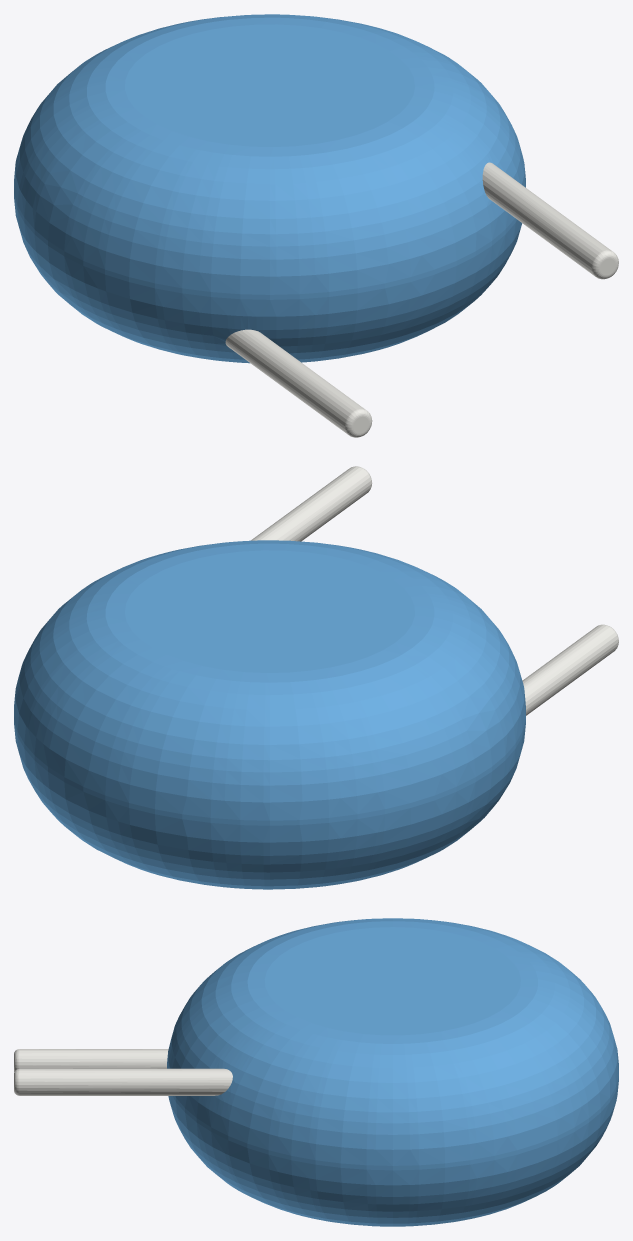
File: RV_Disc_D9mm_W4mm_P5mm.glb
The picture shows the model from 3 angles, top to bottom: view 1: azimuth 30°, elevation 25°; view 2: azimuth 150°, elevation 25°; view 3: azimuth 270°, elevation 25°; orthographic projection. The views are drawn at different scales.
Visible parts, largest first — view 1: Shape_IndexedFaceSet.001, Shape_IndexedFaceSet.003, Shape_IndexedFaceSet.002, Shape_IndexedFaceSet.006, Shape_IndexedFaceSet.004, Shape_IndexedFaceSet; view 2: Shape_IndexedFaceSet.001, Shape_IndexedFaceSet.003, Shape_IndexedFaceSet.002, Shape_IndexedFaceSet.004, Shape_IndexedFaceSet.006, Shape_IndexedFaceSet; view 3: Shape_IndexedFaceSet.001, Shape_IndexedFaceSet.003, Shape_IndexedFaceSet.002, Shape_IndexedFaceSet.004, Shape_IndexedFaceSet.006, Shape_IndexedFaceSet.
Boxes of the visible parts, x1,y1,x2,y2 form: Shape_IndexedFaceSet.001: (14, 14, 525, 294); Shape_IndexedFaceSet.003: (125, 24, 414, 146); Shape_IndexedFaceSet.002: (14, 198, 522, 363); Shape_IndexedFaceSet.006: (225, 329, 365, 434); Shape_IndexedFaceSet.004: (482, 162, 611, 275); Shape_IndexedFaceSet: (14, 193, 517, 299); Shape_IndexedFaceSet.001: (14, 540, 525, 820); Shape_IndexedFaceSet.003: (125, 550, 414, 672); Shape_IndexedFaceSet.002: (14, 724, 525, 889); Shape_IndexedFaceSet.004: (251, 466, 371, 541); Shape_IndexedFaceSet.006: (522, 625, 617, 715); Shape_IndexedFaceSet: (14, 719, 525, 825); Shape_IndexedFaceSet.001: (167, 918, 618, 1165); Shape_IndexedFaceSet.003: (264, 927, 520, 1035); Shape_IndexedFaceSet.002: (168, 1081, 618, 1226); Shape_IndexedFaceSet.004: (19, 1068, 232, 1095); Shape_IndexedFaceSet.006: (19, 1049, 168, 1068); Shape_IndexedFaceSet: (172, 1076, 618, 1170).
Size of the model in its own units: 3.54 by 1.57 by 4.73.
